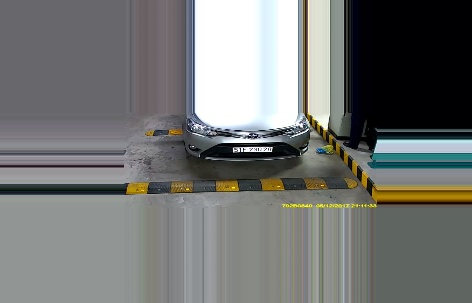plate: (229, 142, 279, 155)
